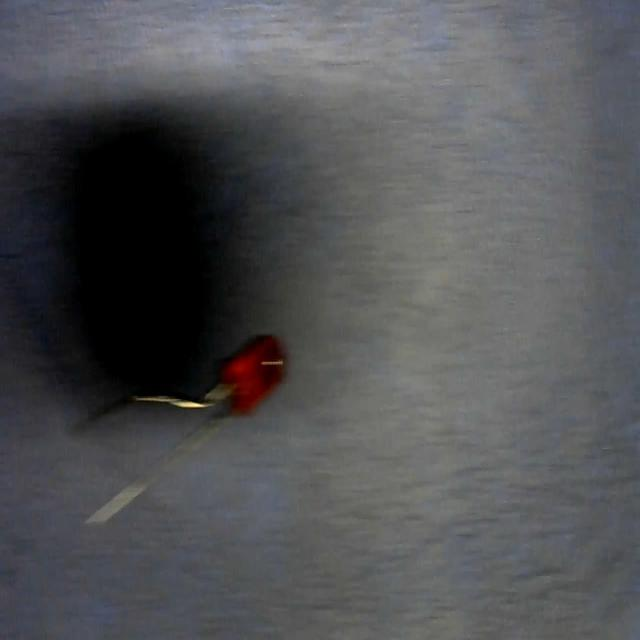LED: (79, 325, 289, 533)
